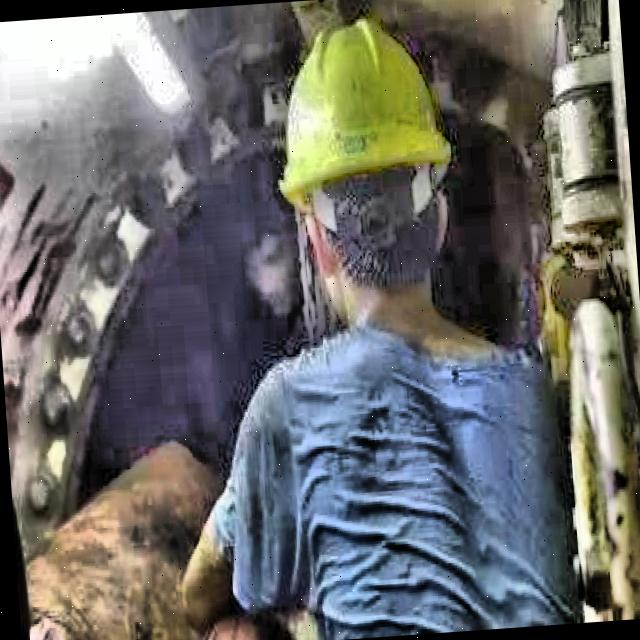helmet: (254, 2, 472, 354)
